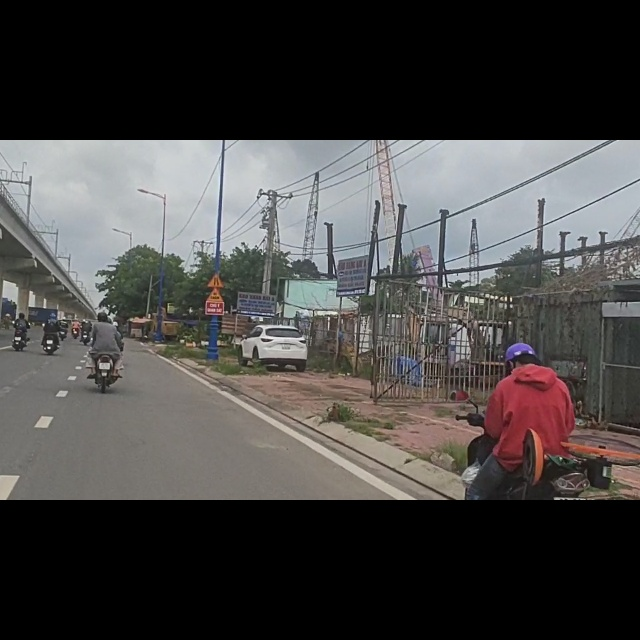bien_nguy_hiem: (205, 264, 227, 288), (207, 235, 225, 263)
